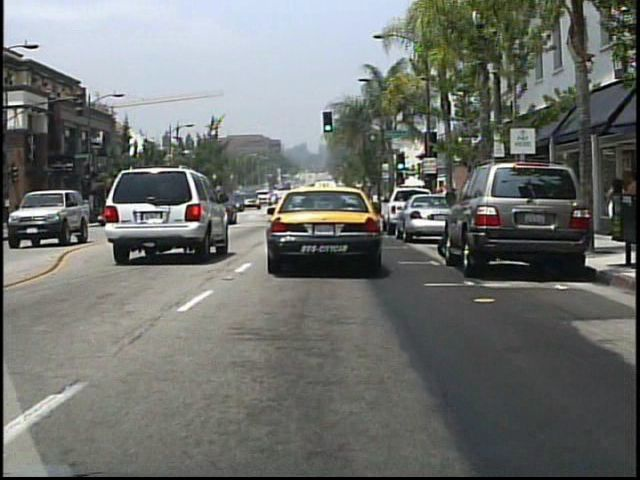person: (607, 181, 628, 243)
